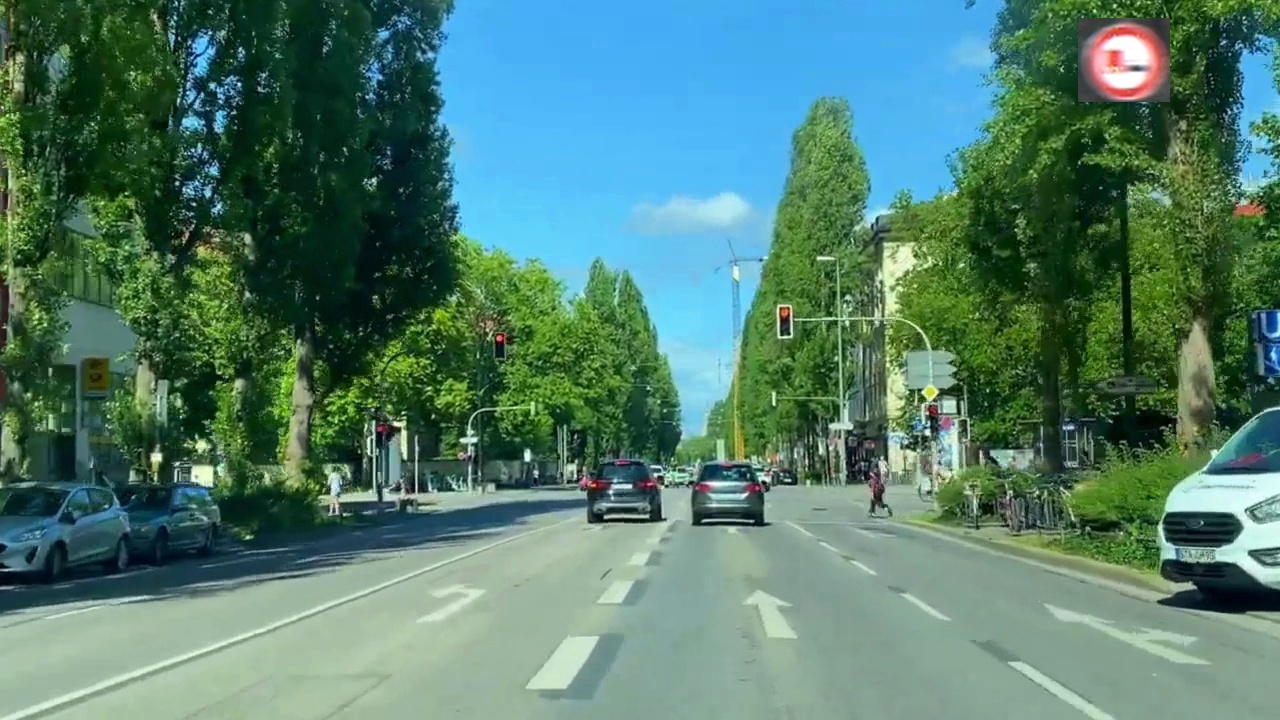No pass >3.5t: (1078, 18, 1170, 102)
